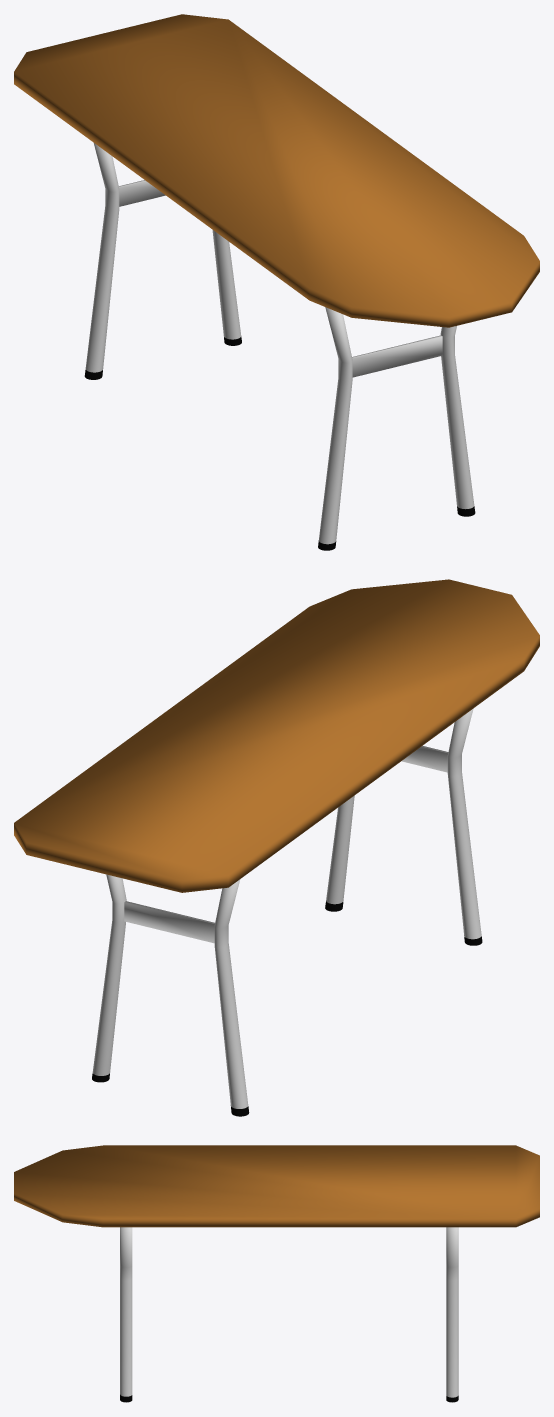
File: tabua de passar roupa.fbx
3 renders of one model, top to bottom at view 1: azimuth 30°, elevation 25°; view 2: azimuth 150°, elevation 25°; view 3: azimuth 270°, elevation 25°, orthographic. The views are drawn at different scales.
Parts seen in each view (by area): view 1: pernas; view 2: pernas; view 3: pernas.
Boxes of the visible parts, left/top/right/bottom form: pernas: left=14, top=14, right=539, bottom=550; pernas: left=14, top=579, right=539, bottom=1116; pernas: left=14, top=1145, right=539, bottom=1402.
Size of the model in its own units: 0.3296 by 0.4099 by 1.
